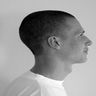ear: (44, 32, 65, 54)
